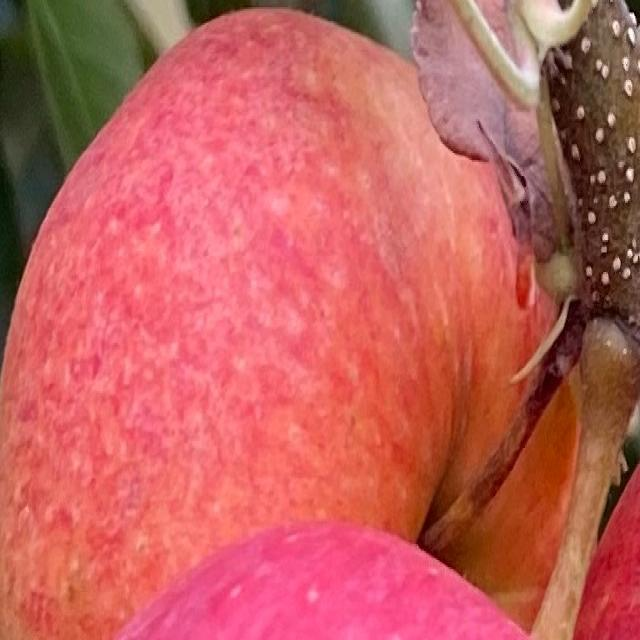100-_ripeness: (1, 7, 640, 640), (115, 522, 528, 640)
